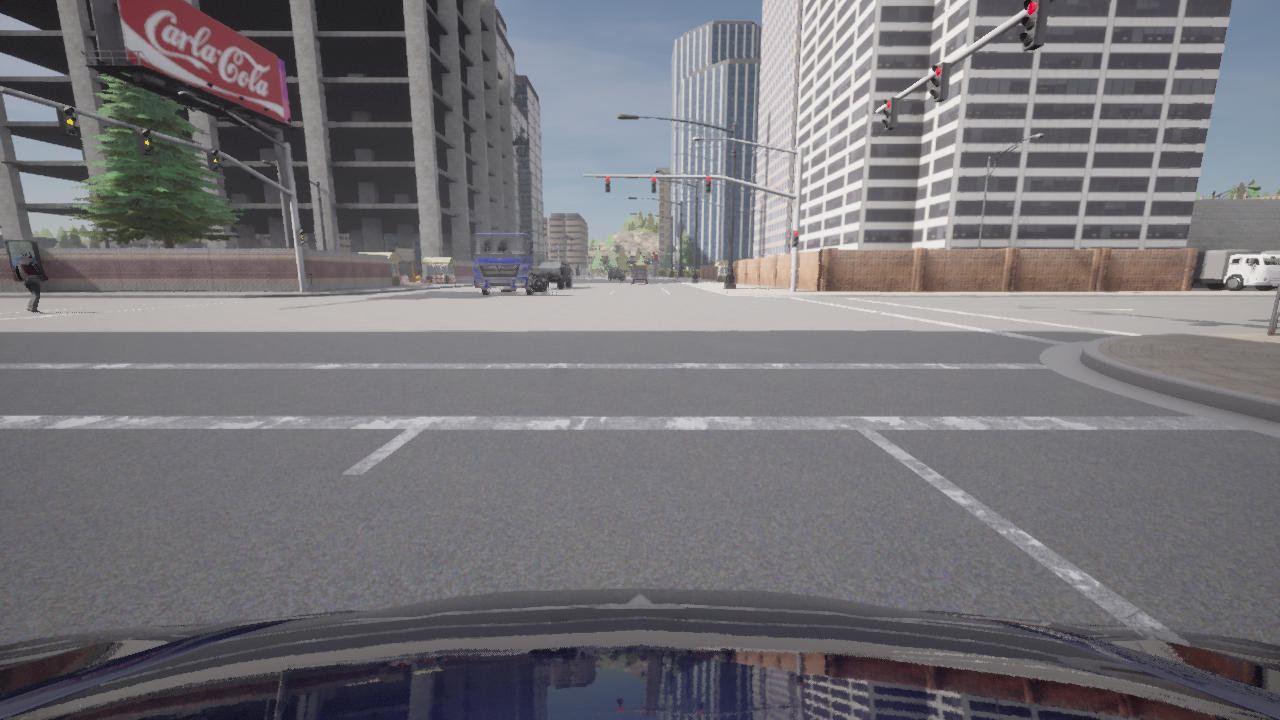cyclist: (0, 588, 1279, 719), (469, 231, 549, 295), (1192, 250, 1279, 290), (535, 262, 571, 288), (1260, 250, 1279, 287), (609, 267, 624, 281), (632, 270, 647, 282), (633, 265, 646, 271), (632, 267, 647, 272), (613, 279, 615, 280)
pedestrian: (14, 250, 49, 312), (305, 272, 321, 292)
